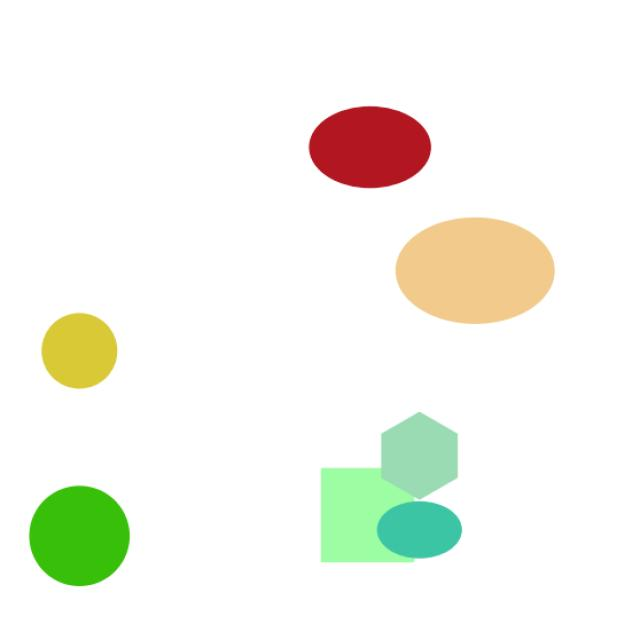Circle: (14, 469, 135, 591), (29, 309, 133, 401)
Hexagon: (367, 408, 489, 507)
Oval: (378, 210, 576, 344), (301, 87, 449, 199), (364, 495, 472, 567)
square: (308, 458, 416, 567)
